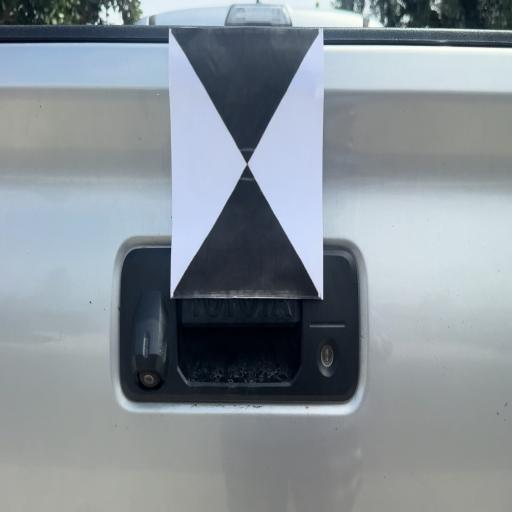target: (170, 29, 324, 299)
